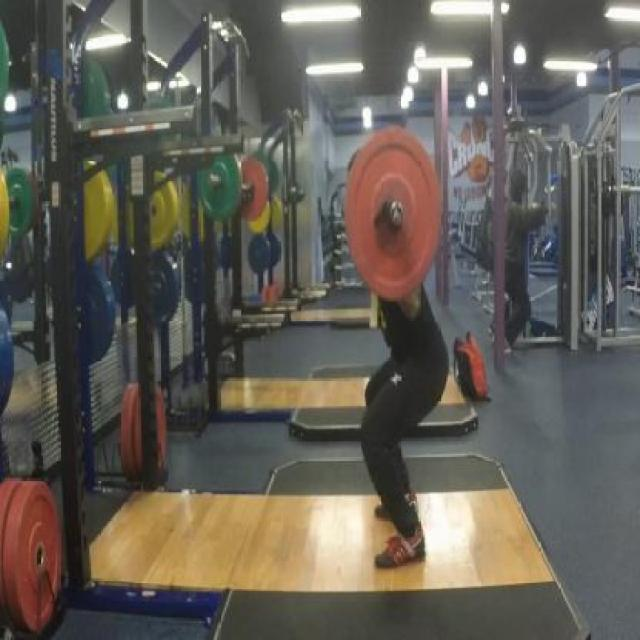Barbell: (388, 200, 404, 231)
